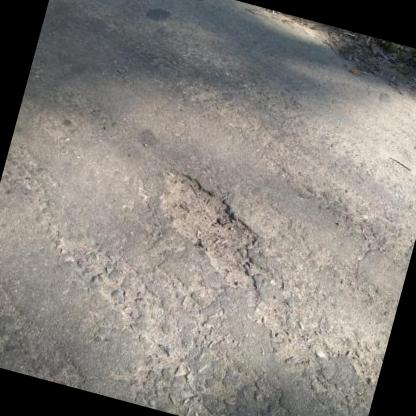pothole: (137, 164, 285, 294)
